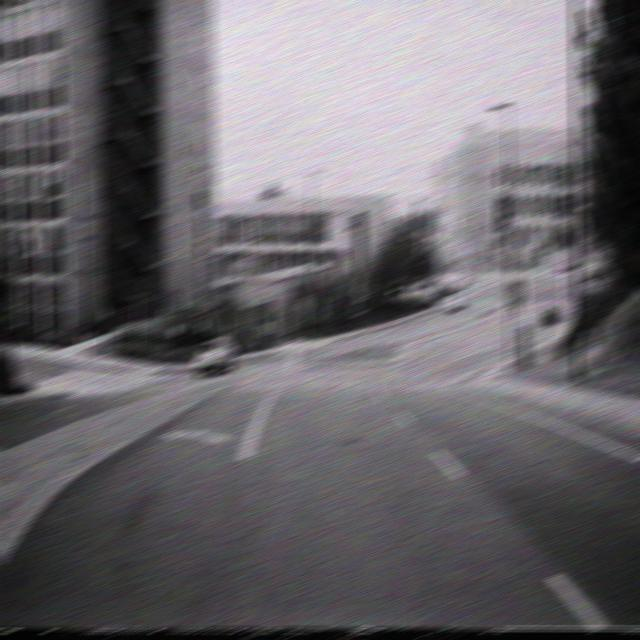stop_sign: (506, 279, 526, 310), (217, 281, 236, 311)
